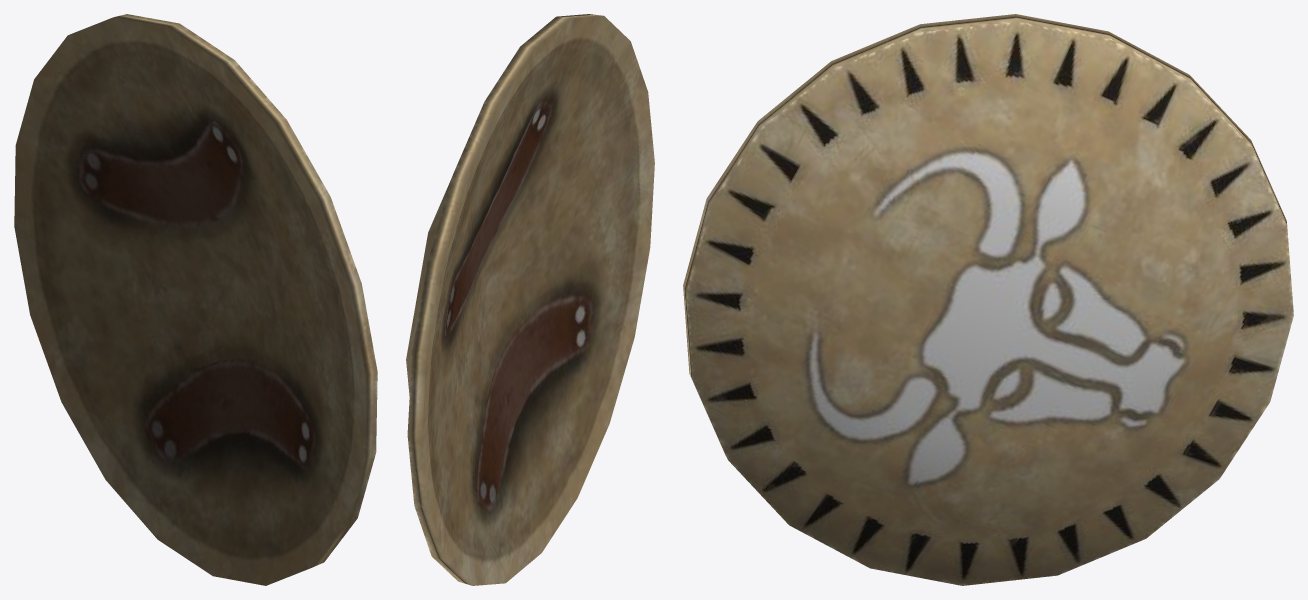
The model's file is shield-base.glb.
The picture shows the model from 3 angles, left to right: view 1: azimuth 30°, elevation 25°; view 2: azimuth 150°, elevation 25°; view 3: azimuth 270°, elevation 25°; orthographic projection. The views are drawn at different scales.
Bounding box in the file's own units: 0.2261 × 1.05 × 1.05.
Materials: 1 (1 with a texture image).
